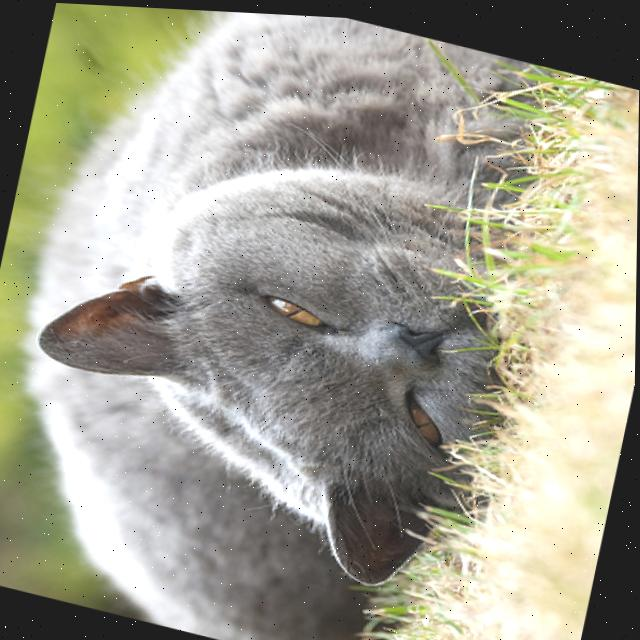British Shorthair: (0, 0, 589, 640)
